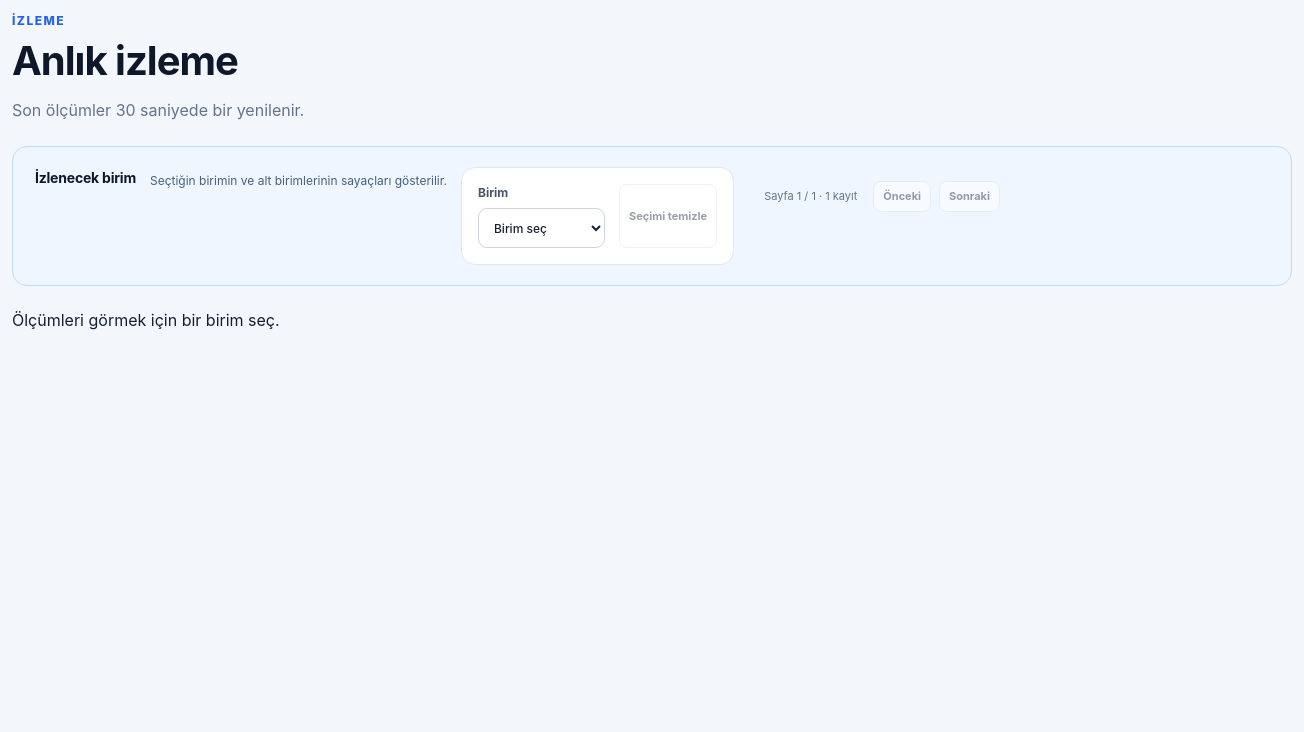
Scenario: F3-T6 anlık izleme › birim seçmeden ölçüm istemez; seçimden sonra sıfır enerji değerini gösterir
Select "TM-1 · Merkez" in the dropdown: (542, 228) [478,208,605,248]
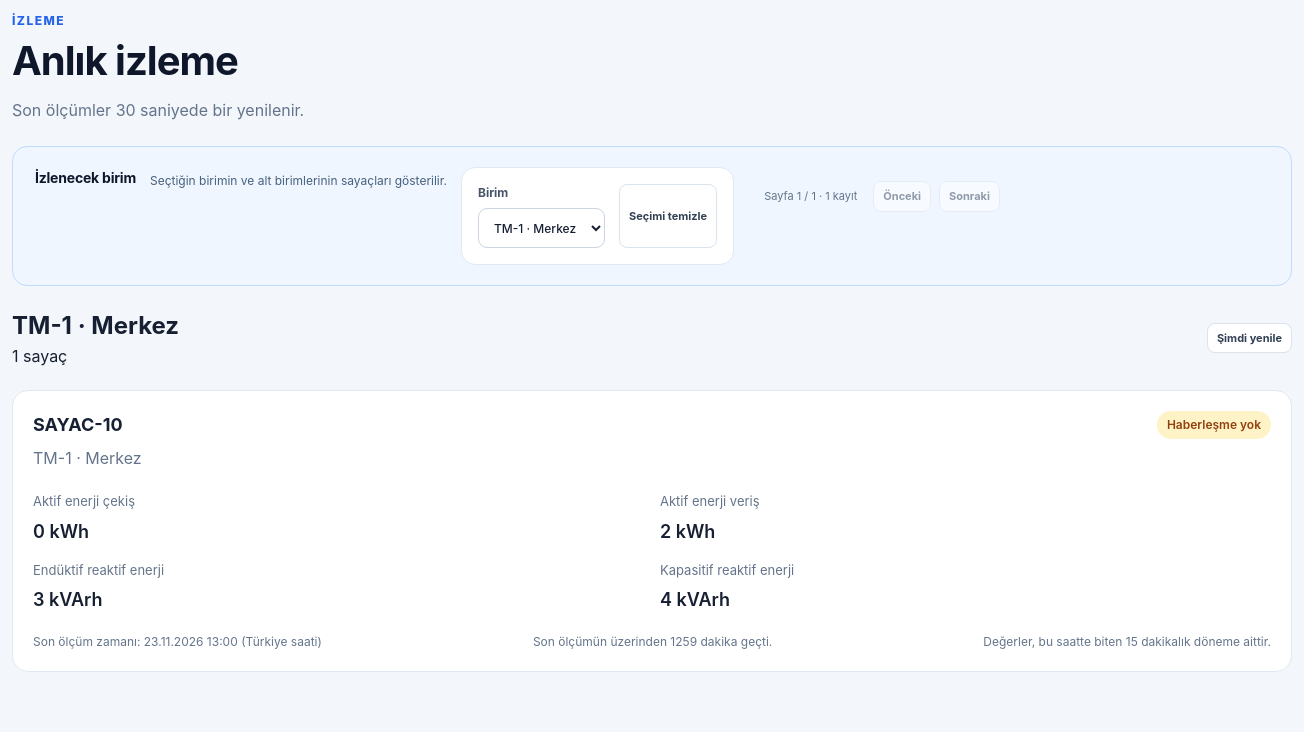
Check: the heading "SAYAC-10" is shown, box [33,414,123,435]
Check: the text "0 kWh" is shown, box [33,520,89,542]
Click the button "Seçimi temizle": click(668, 216) [619,184,717,248]
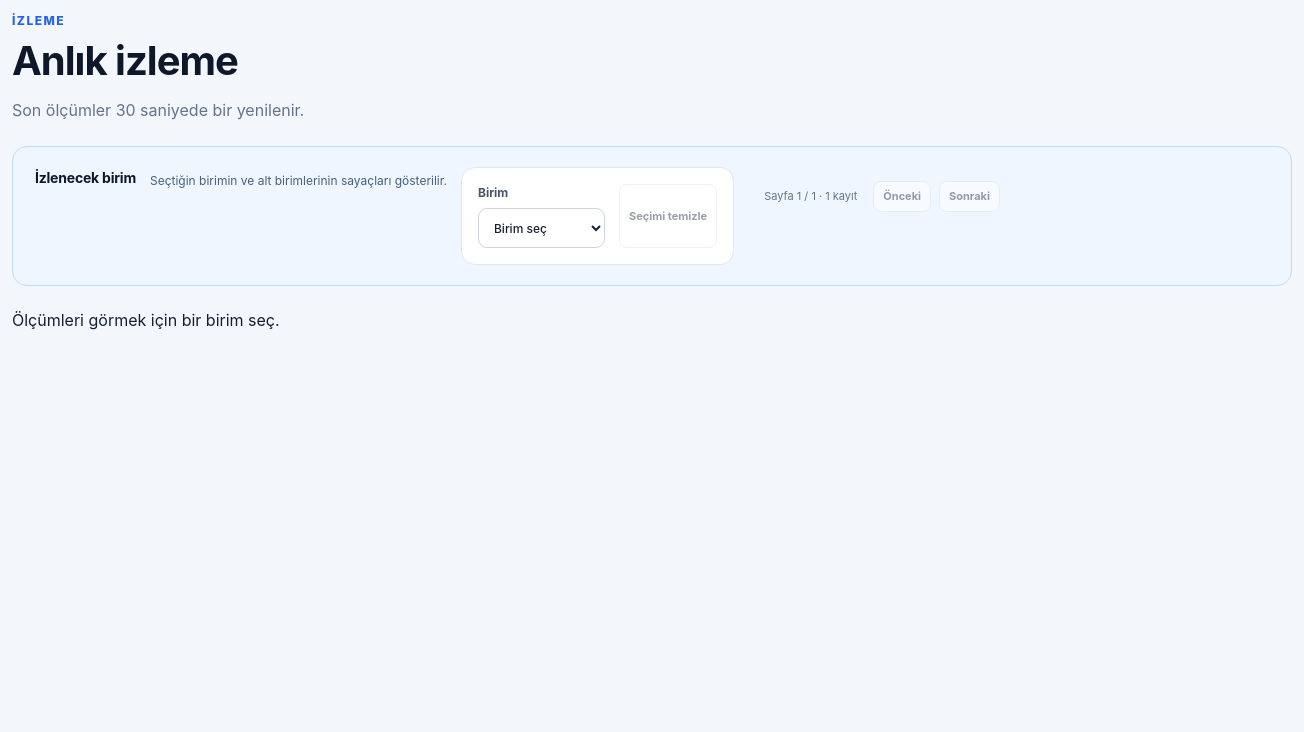
Check: the heading "SAYAC-10" is gone
